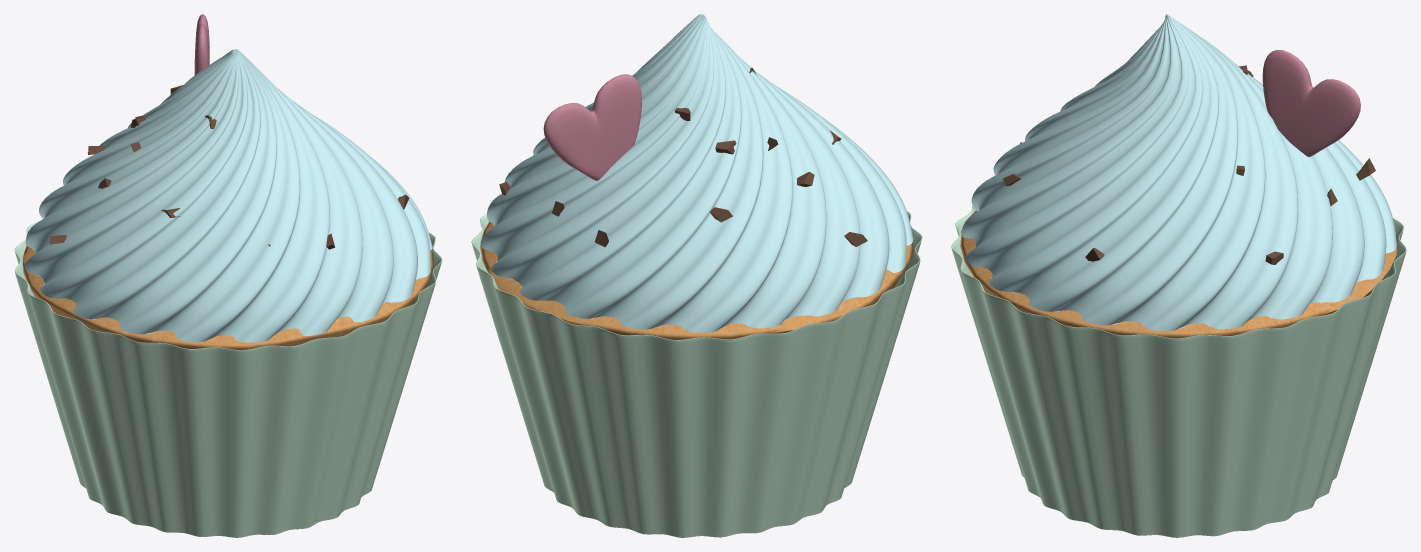
Rendered from muffin1.fbx.
3 views of the same model, side by side, from view 1: azimuth 30°, elevation 25°; view 2: azimuth 150°, elevation 25°; view 3: azimuth 270°, elevation 25° (orthographic). The views are drawn at different scales.
Parts seen in each view (by area): view 1: pCylinder28; view 2: pCylinder28; view 3: pCylinder28.
Part boxes in pixels (left/top/right/bottom): pCylinder28: left=14, top=14, right=442, bottom=537; pCylinder28: left=471, top=14, right=922, bottom=537; pCylinder28: left=951, top=14, right=1406, bottom=537.
Bounding box in the file's own units: 211 × 235 × 212.
1 material, 1 textured.
